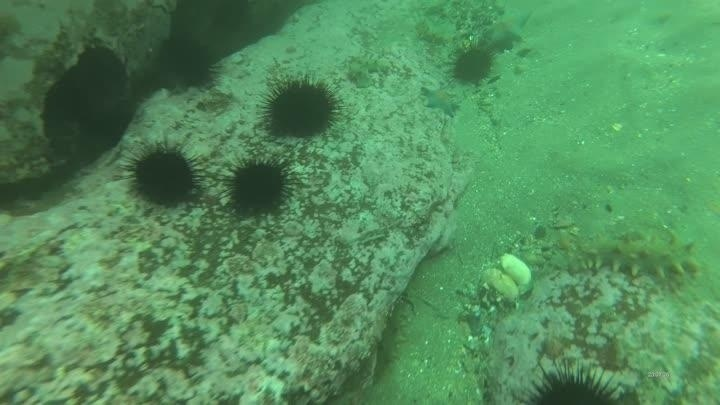echinus: (119, 137, 207, 210), (258, 74, 343, 142), (517, 358, 629, 404), (220, 154, 297, 220), (155, 31, 221, 91), (448, 42, 496, 87)
holothurian: (568, 229, 704, 284), (373, 299, 411, 380), (341, 52, 394, 86)
starfish: (482, 7, 535, 49), (419, 82, 461, 118)
